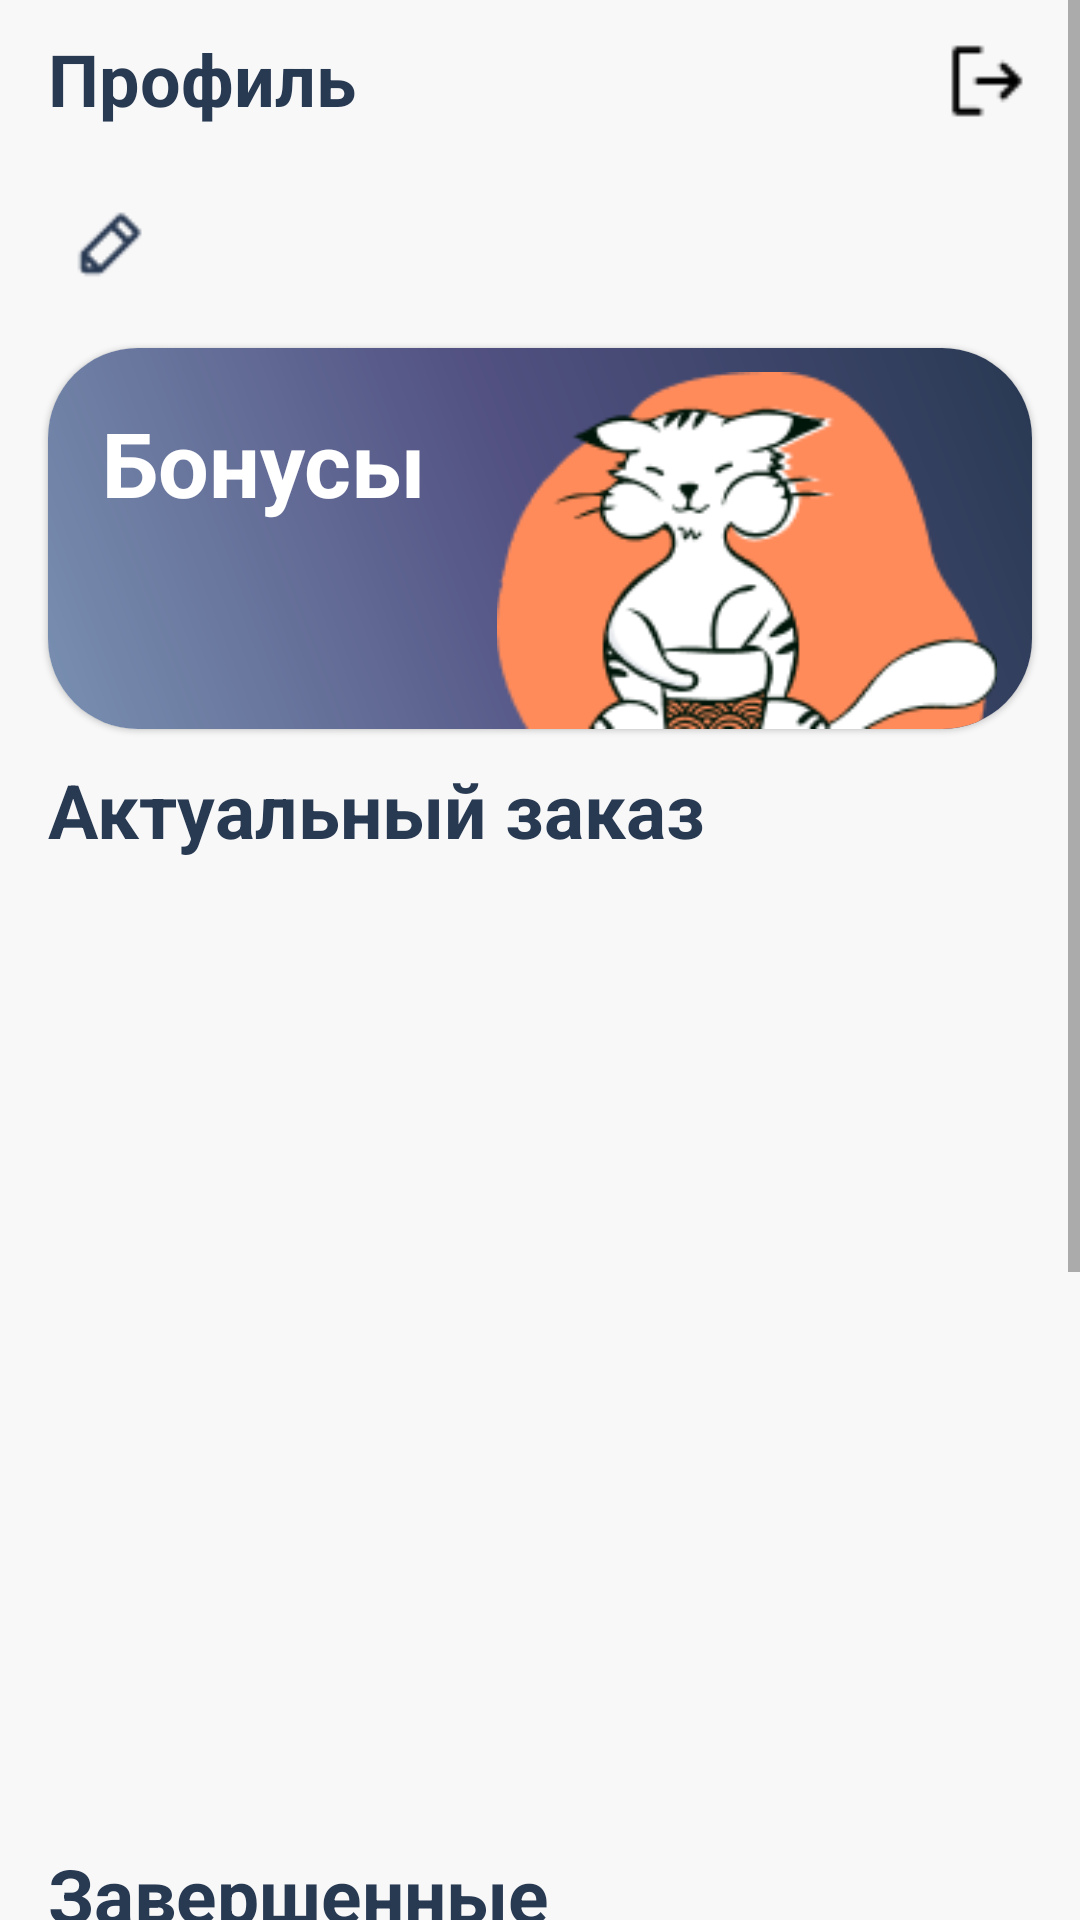

Where to tap for icons on this 1080 x 1920 app screen, as (x,y):
pencil: (110,244)
sign out: (987,81)
